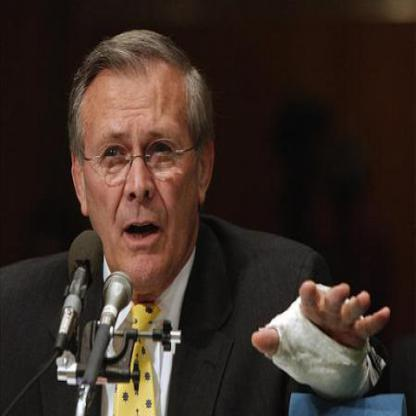face: (85, 35, 202, 298)
